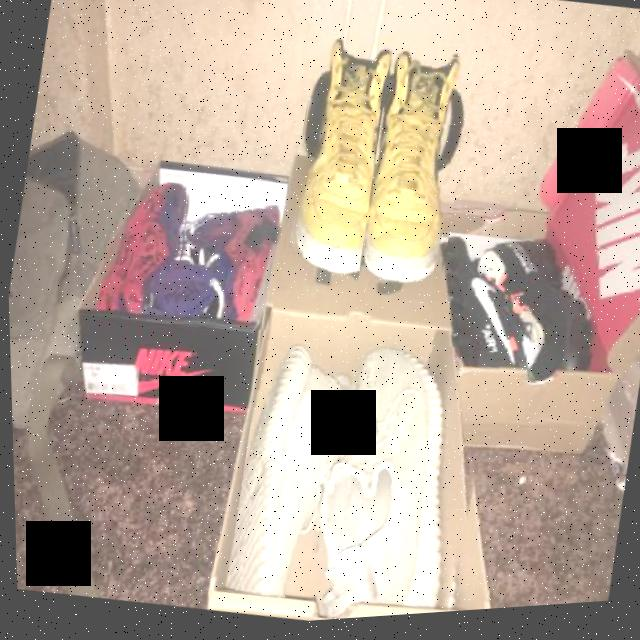shoe: (299, 331, 505, 625), (216, 328, 372, 612), (348, 46, 480, 312), (272, 30, 403, 298), (448, 218, 612, 401), (91, 168, 229, 336), (414, 217, 547, 382), (164, 183, 290, 344)
